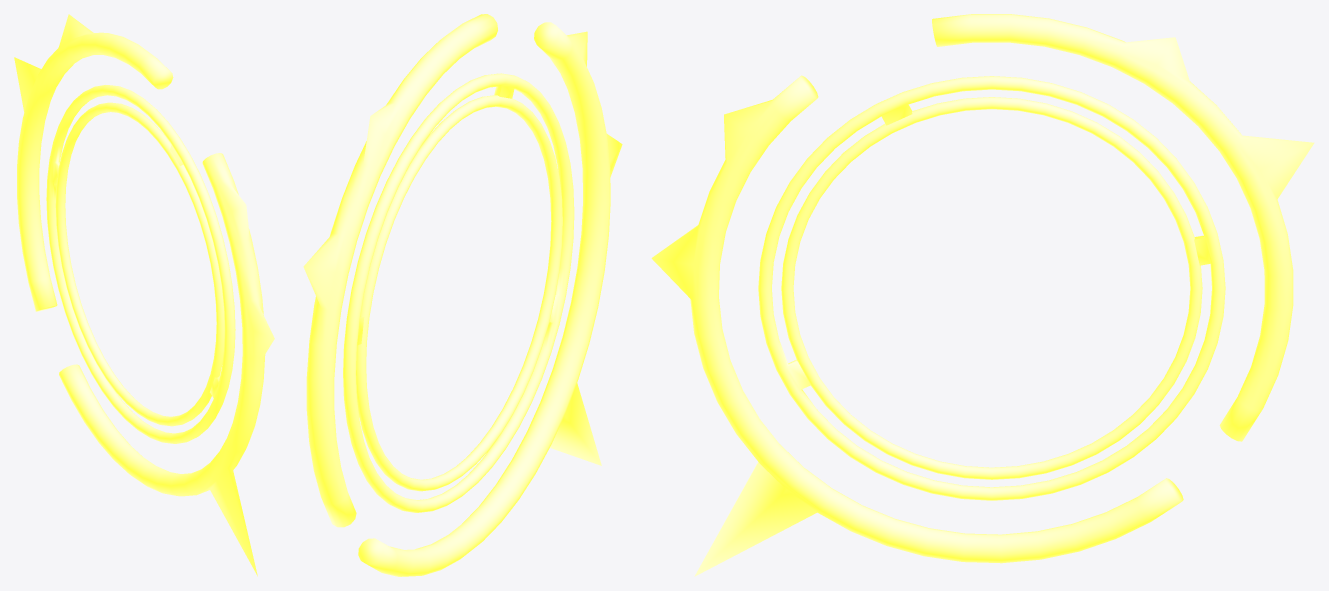
The model's file is 光の輪.fbx.
3 renders of one model, left to right at view 1: azimuth 30°, elevation 25°; view 2: azimuth 150°, elevation 25°; view 3: azimuth 270°, elevation 25°, orthographic. The views are drawn at different scales.
Parts seen in each view (by area): view 1: トーラス_002, トーラス_001, トーラス_006, トーラス_003; view 2: トーラス_002, トーラス_001, トーラス_006, トーラス_003; view 3: トーラス_002, トーラス_001, トーラス_006, トーラス_003.
Boxes of the visible parts, box(x1,y1,x2,y2) form: トーラス_002: box(59, 153, 274, 576); トーラス_001: box(14, 14, 173, 311); トーラス_006: box(46, 85, 235, 443); トーラス_003: box(55, 102, 224, 426); トーラス_002: box(358, 22, 622, 576); トーラス_001: box(303, 14, 497, 527); トーラス_006: box(343, 73, 574, 512); トーラス_003: box(356, 95, 562, 491); トーラス_002: box(651, 75, 1183, 576); トーラス_001: box(932, 14, 1314, 441); トーラス_006: box(758, 76, 1225, 500); トーラス_003: box(781, 97, 1202, 479).
Bounding box in the file's own units: 111 × 2382 × 2549.
